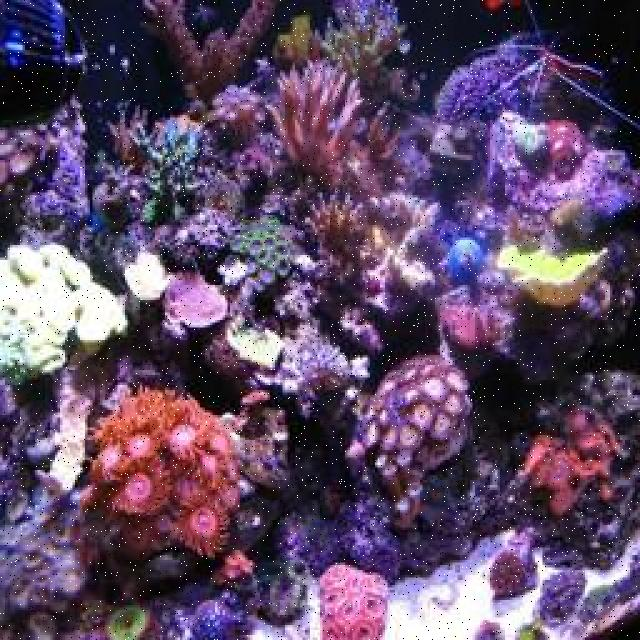reefs: (69, 377, 243, 559), (73, 382, 241, 561), (344, 354, 474, 529), (0, 244, 131, 375)
